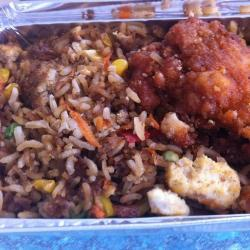rice: (11, 65, 193, 208)
